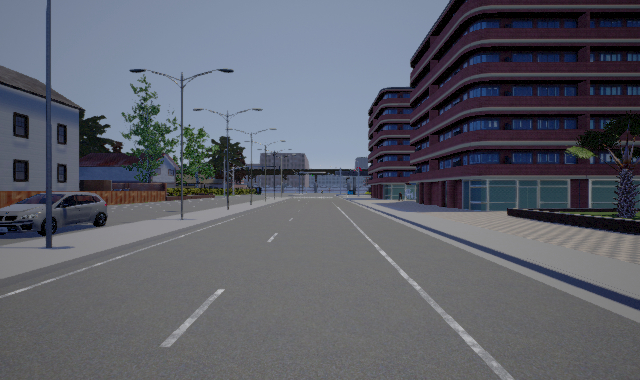vehicle: (1, 190, 108, 237)
